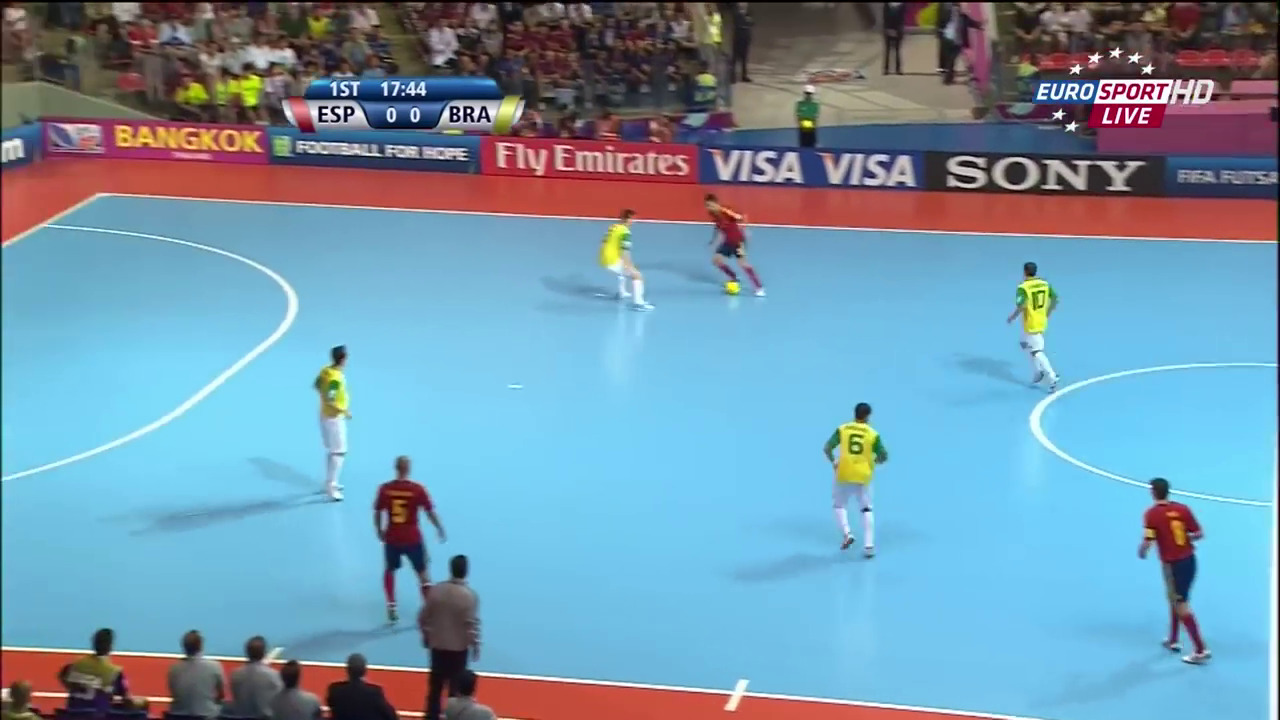ball: (717, 276, 738, 297)
person: (1130, 475, 1215, 673), (362, 449, 441, 629), (819, 391, 882, 558), (298, 346, 358, 506), (998, 255, 1064, 391), (689, 196, 771, 300), (592, 198, 654, 308)
